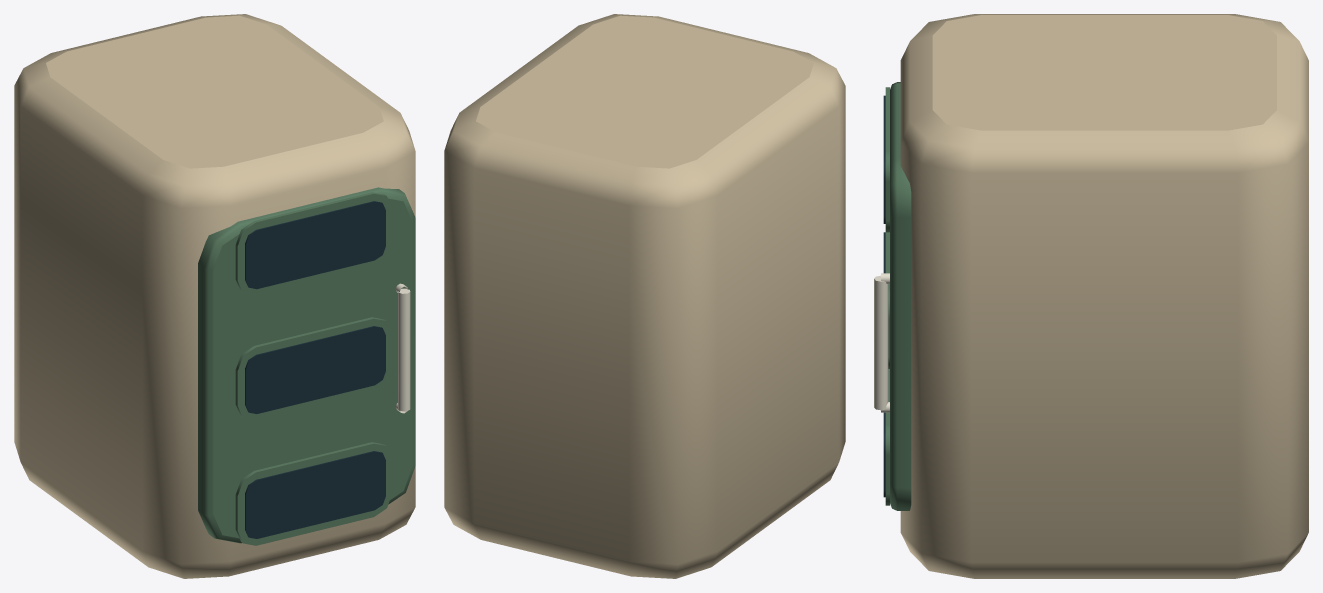
3 renders of one model, left to right at view 1: azimuth 30°, elevation 25°; view 2: azimuth 150°, elevation 25°; view 3: azimuth 270°, elevation 25°, orthographic. The views are drawn at different scales.
Visible parts, largest first — view 1: t200_o2; view 2: t200_o2; view 3: t200_o2.
Part boxes in pixels (left/top/right/bottom): t200_o2: left=14, top=14, right=415, bottom=578; t200_o2: left=444, top=14, right=845, bottom=578; t200_o2: left=874, top=14, right=1308, bottom=578.
Size of the model in its own units: 1.9 by 2.78 by 2.45.
